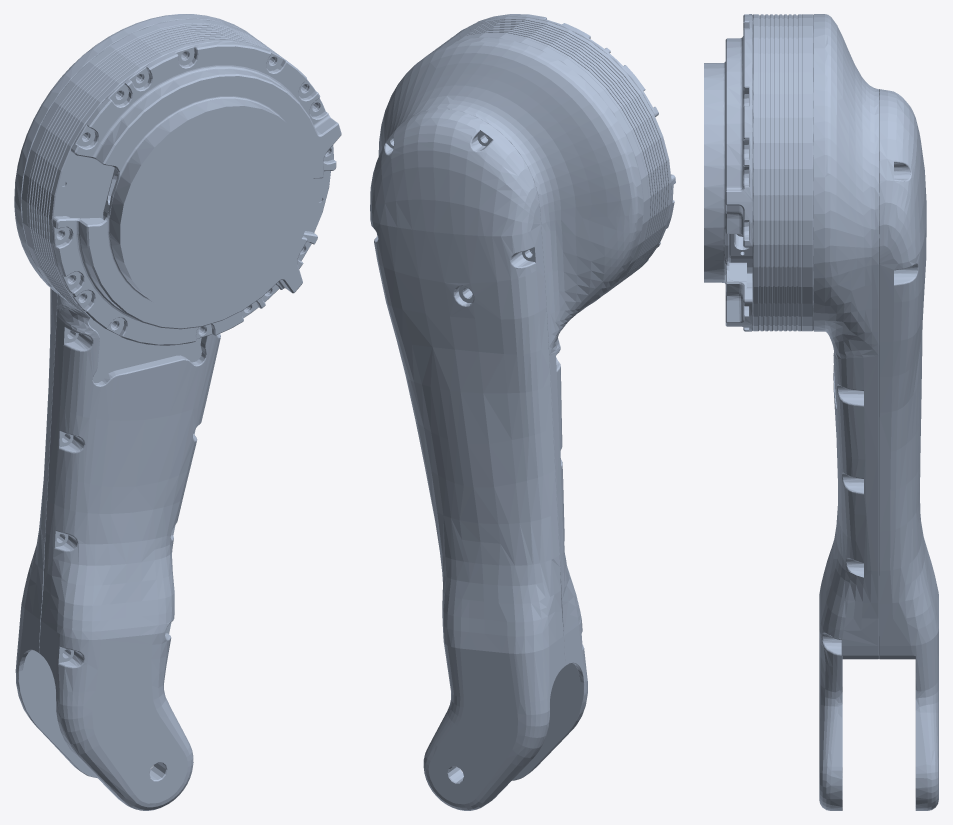
Rendered from thigh.dae.
3 views of the same model, side by side, from view 1: azimuth 30°, elevation 25°; view 2: azimuth 150°, elevation 25°; view 3: azimuth 270°, elevation 25° (orthographic). The views are drawn at different scales.
Parts seen in each view (by area): view 1: node; view 2: node; view 3: node.
Boxes of the visible parts, bbox=[...] form: node: bbox=[14, 14, 341, 810]; node: bbox=[370, 14, 675, 810]; node: bbox=[704, 14, 938, 810].
Bounding box in the file's own units: 0.1699 × 0.1256 × 0.4589.
